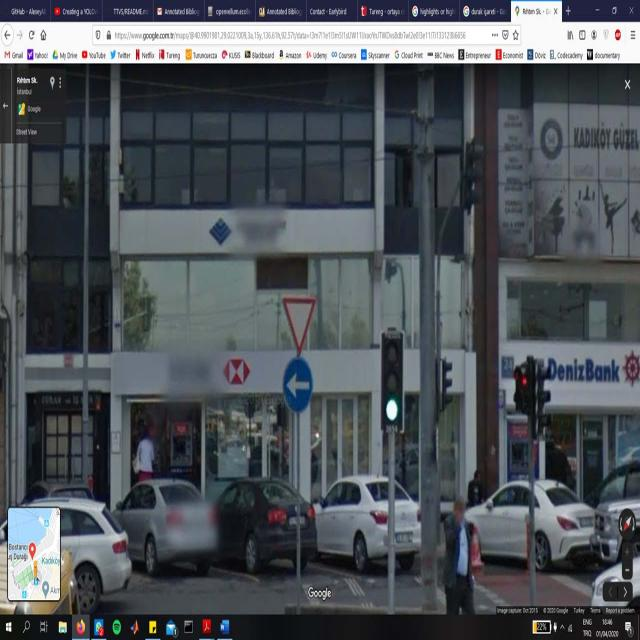sol: (284, 356, 314, 414)
yesil: (382, 332, 402, 430)
